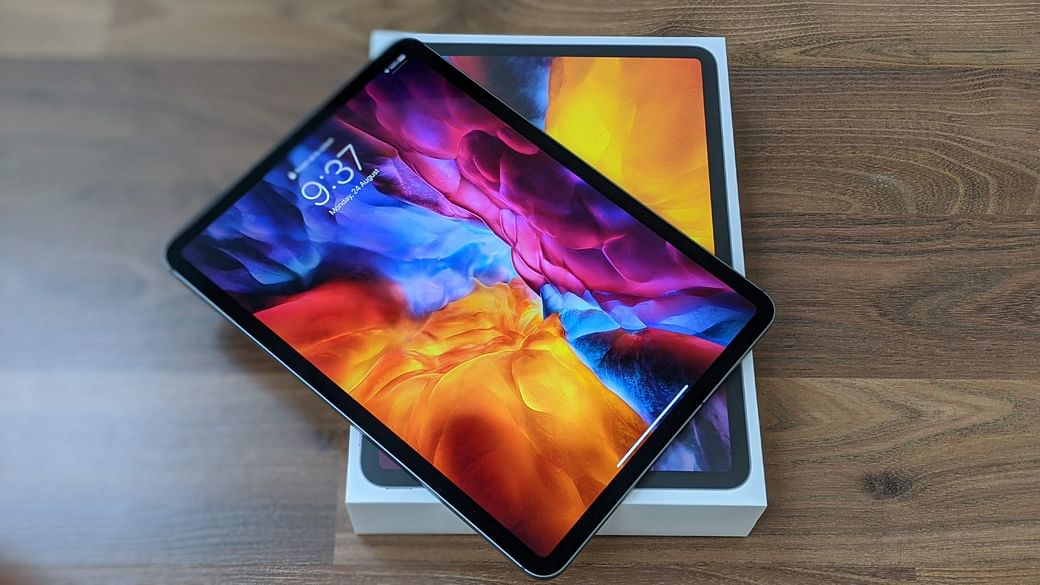Cell Phone: (159, 37, 776, 572)
